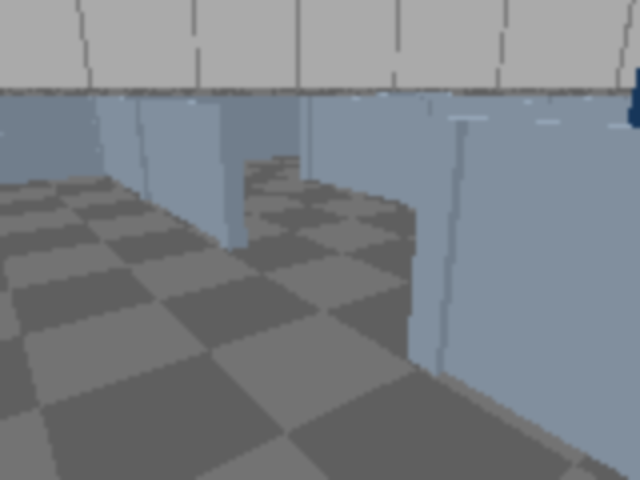person: (599, 0, 638, 398)
